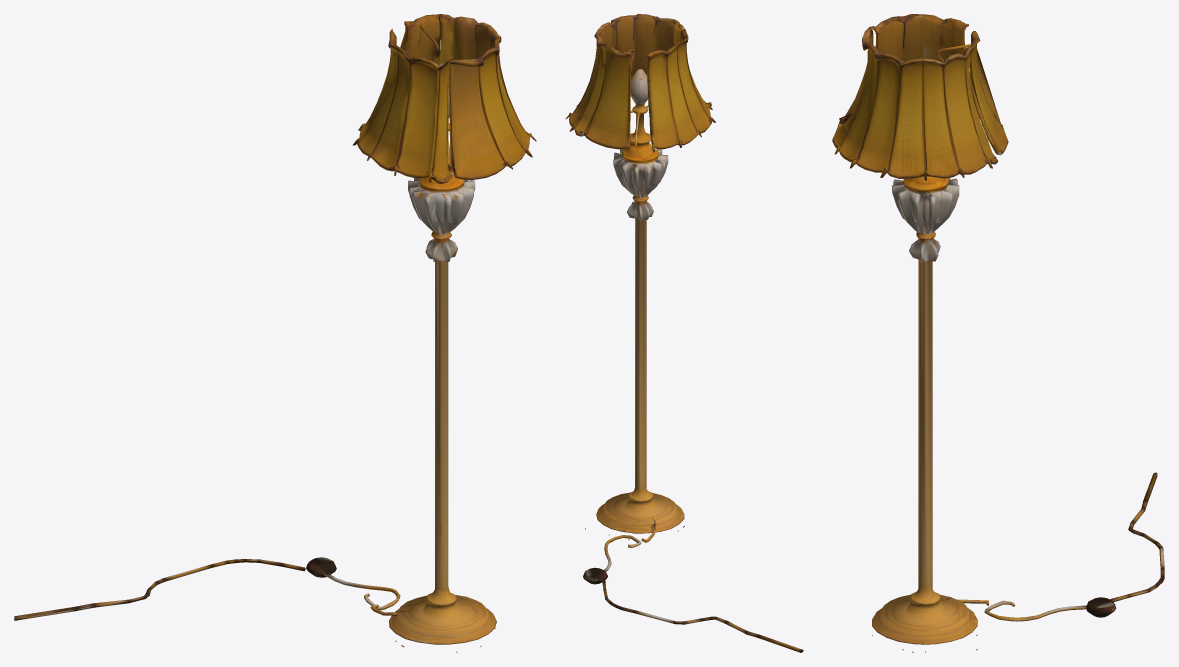
The model's file is lamp.glb.
3 views of the same model, side by side, from view 1: azimuth 30°, elevation 25°; view 2: azimuth 150°, elevation 25°; view 3: azimuth 270°, elevation 25° (orthographic). The views are drawn at different scales.
Parts seen in each view (by area): view 1: material; view 2: material; view 3: material.
Boxes of the visible parts, x1,y1,x2,y2 form: material: (14, 14, 536, 652); material: (565, 14, 803, 652); material: (832, 14, 1164, 652).
Bounding box in the file's own units: 1.31 × 1.9 × 0.9647.
1 material, 1 textured.
